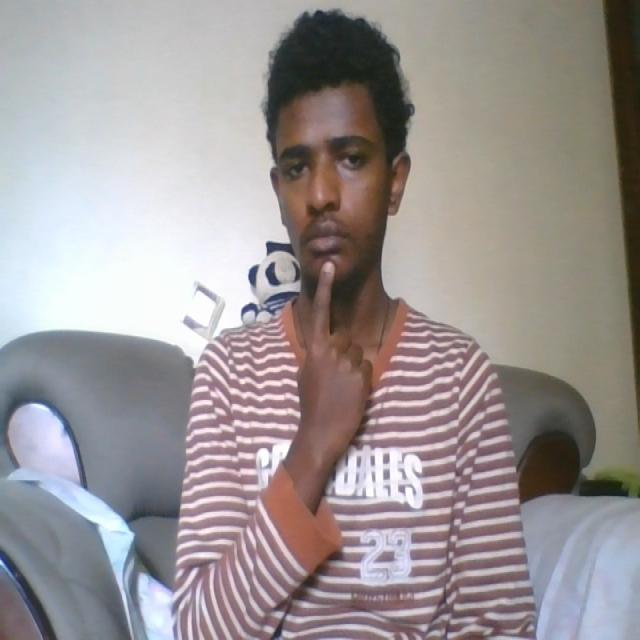lomi: (296, 238, 374, 457)
